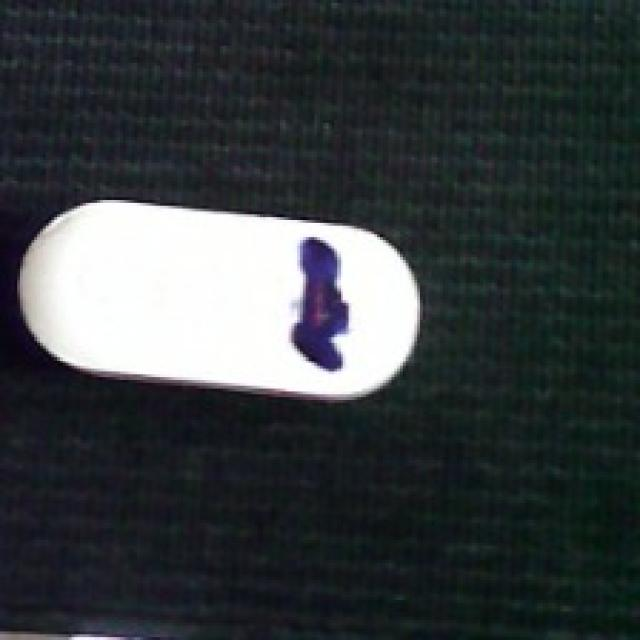defected: (9, 197, 428, 403)
